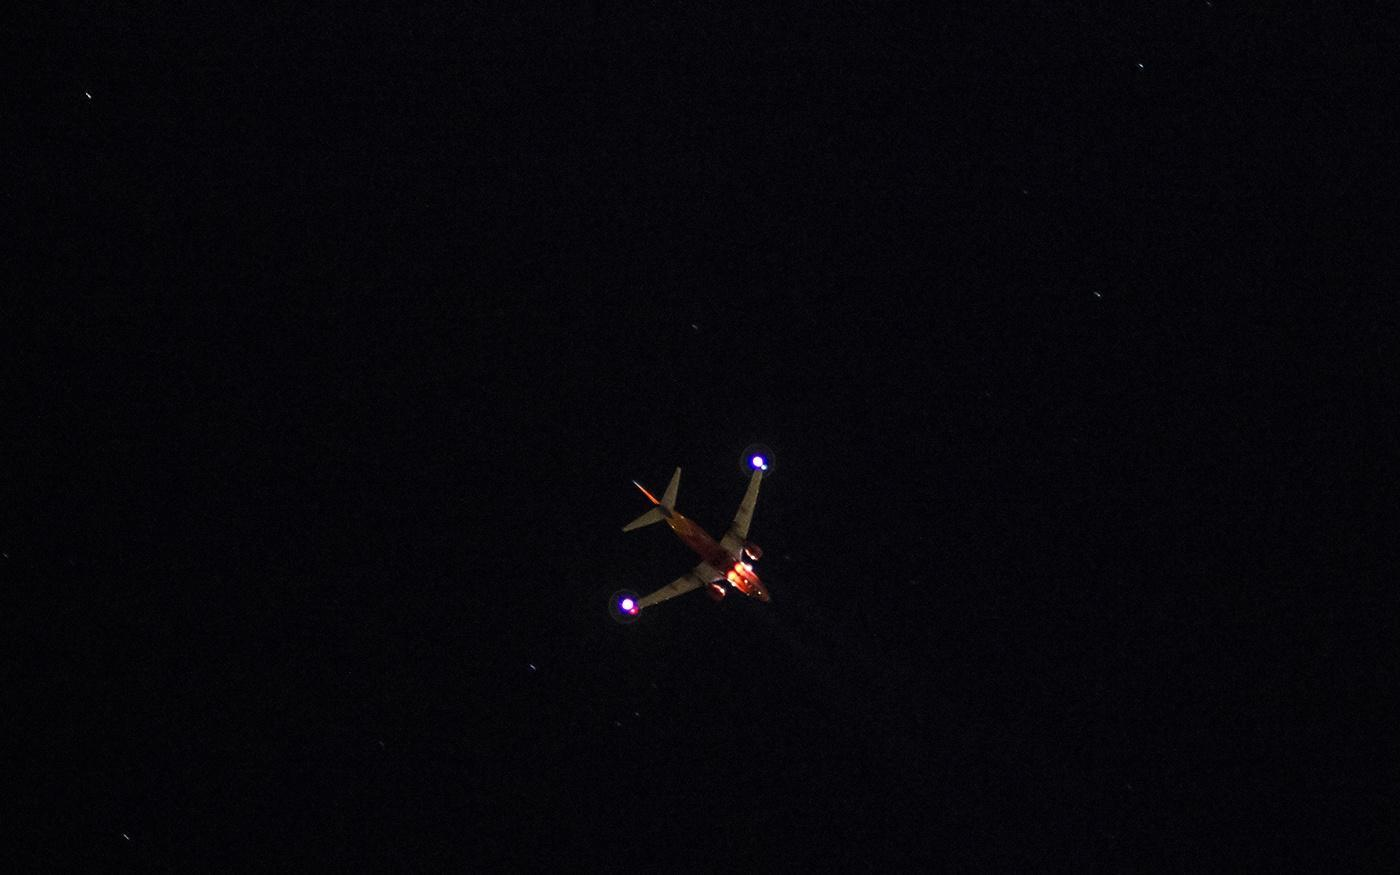Plane: (598, 407, 850, 645)
